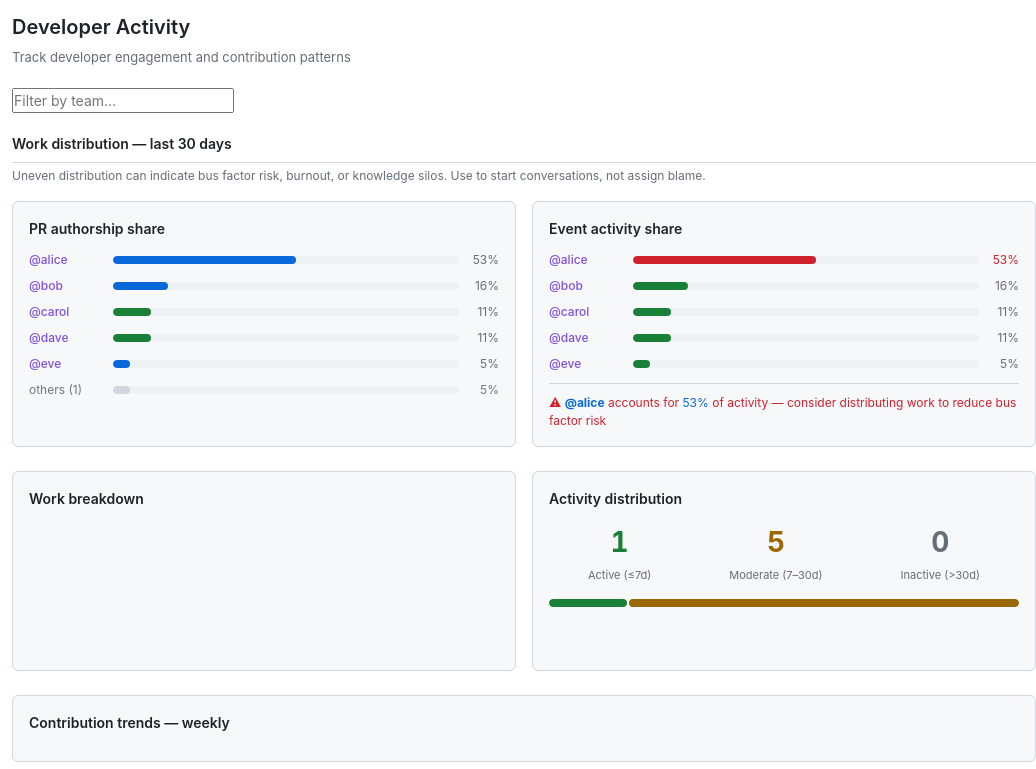
DevActivityPage › selects team from autocomplete and shows clear button
The image size is (1036, 769).
In the dropdown named "Filter developers by team": [123, 100] box [12,88,234,112], type "plat"
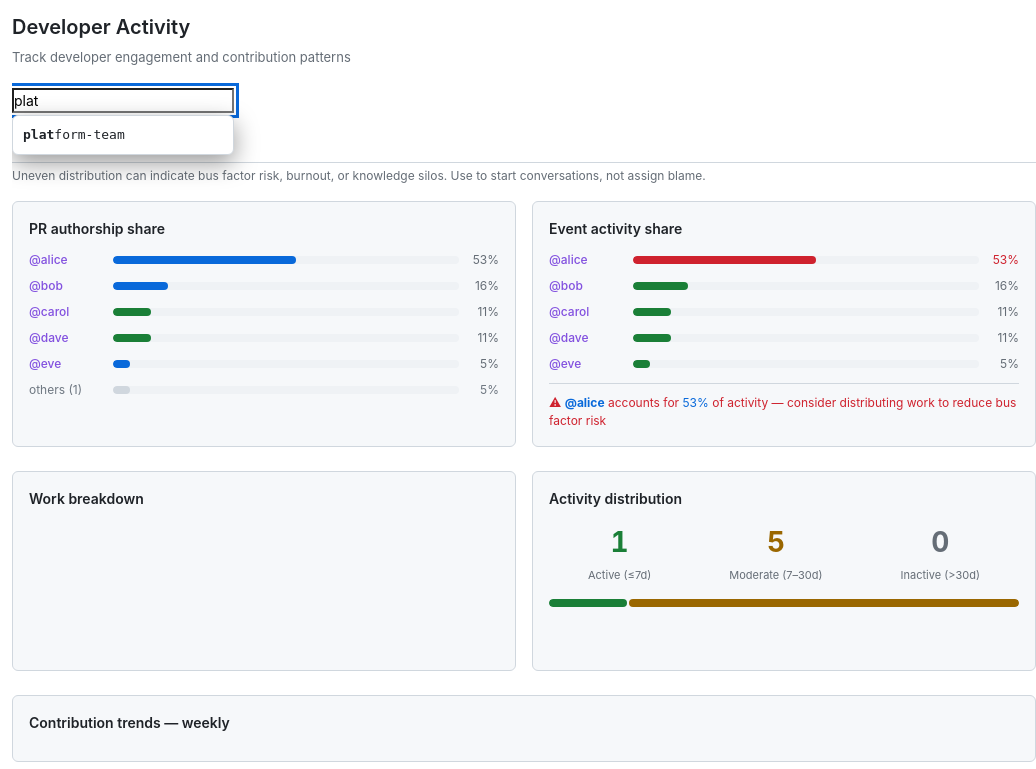
Press the mouse on the option "platform-team": [74, 134] box [23,126,125,142]
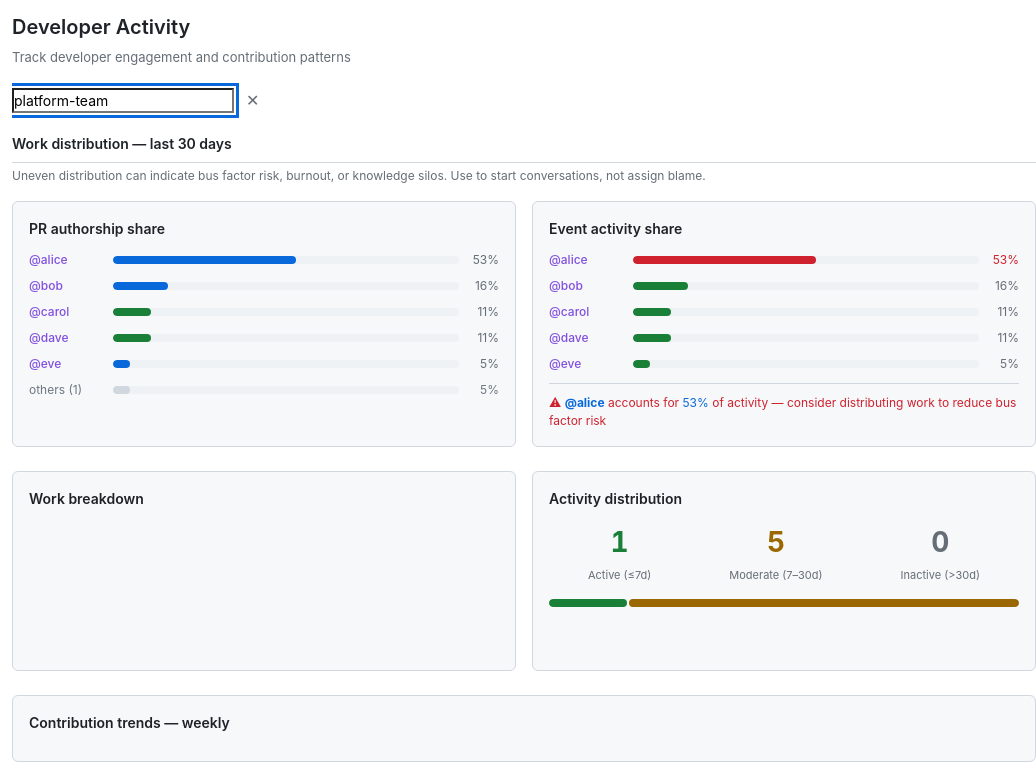
Expected: the button named "Clear team filter" is shown, [242,88,263,112]
